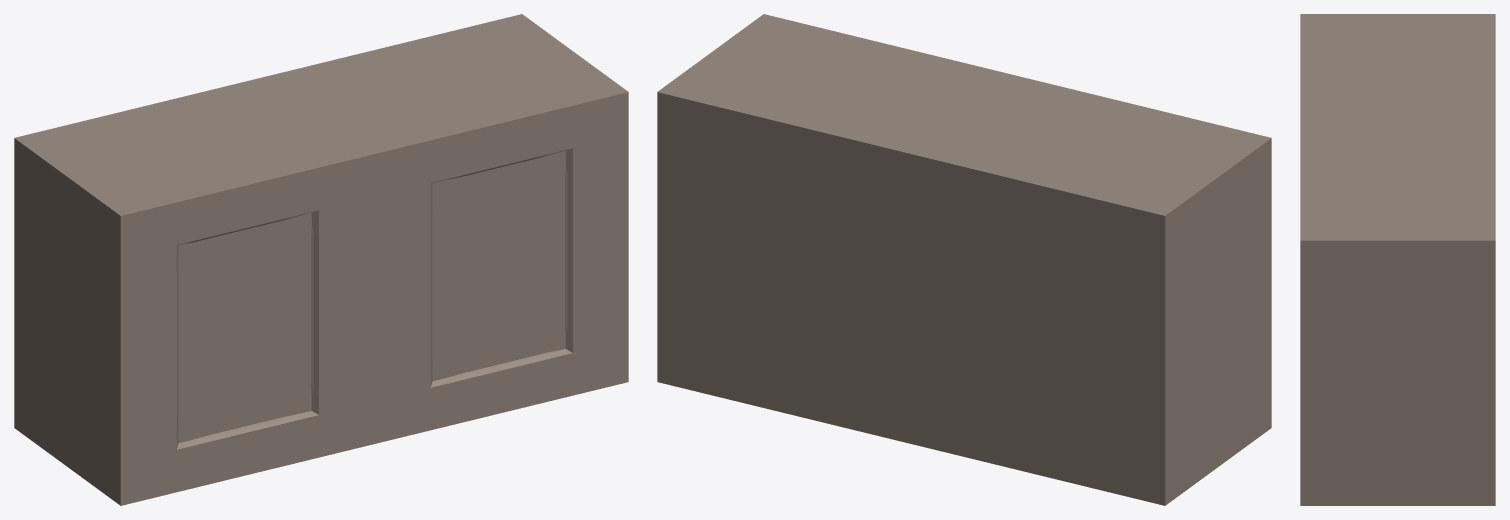
Rendered from Wall-Cabinet-18-High-12-Deep_std_001_W33in.glb.
The picture shows the model from 3 angles, left to right: view 1: azimuth 30°, elevation 25°; view 2: azimuth 150°, elevation 25°; view 3: azimuth 270°, elevation 25°; orthographic projection. The views are drawn at different scales.
Parts seen in each view (by area): view 1: Wall-Cabinet-18-High-12-Deep.std.001_W33in; view 2: Wall-Cabinet-18-High-12-Deep.std.001_W33in; view 3: Wall-Cabinet-18-High-12-Deep.std.001_W33in.
Part boxes in pixels (x1=…): Wall-Cabinet-18-High-12-Deep.std.001_W33in: x1=14, y1=14, x2=628, y2=505; Wall-Cabinet-18-High-12-Deep.std.001_W33in: x1=657, y1=14, x2=1271, y2=505; Wall-Cabinet-18-High-12-Deep.std.001_W33in: x1=1300, y1=14, x2=1495, y2=505.
Bounding box in the file's own units: 0.8382 × 0.4572 × 0.3048.
